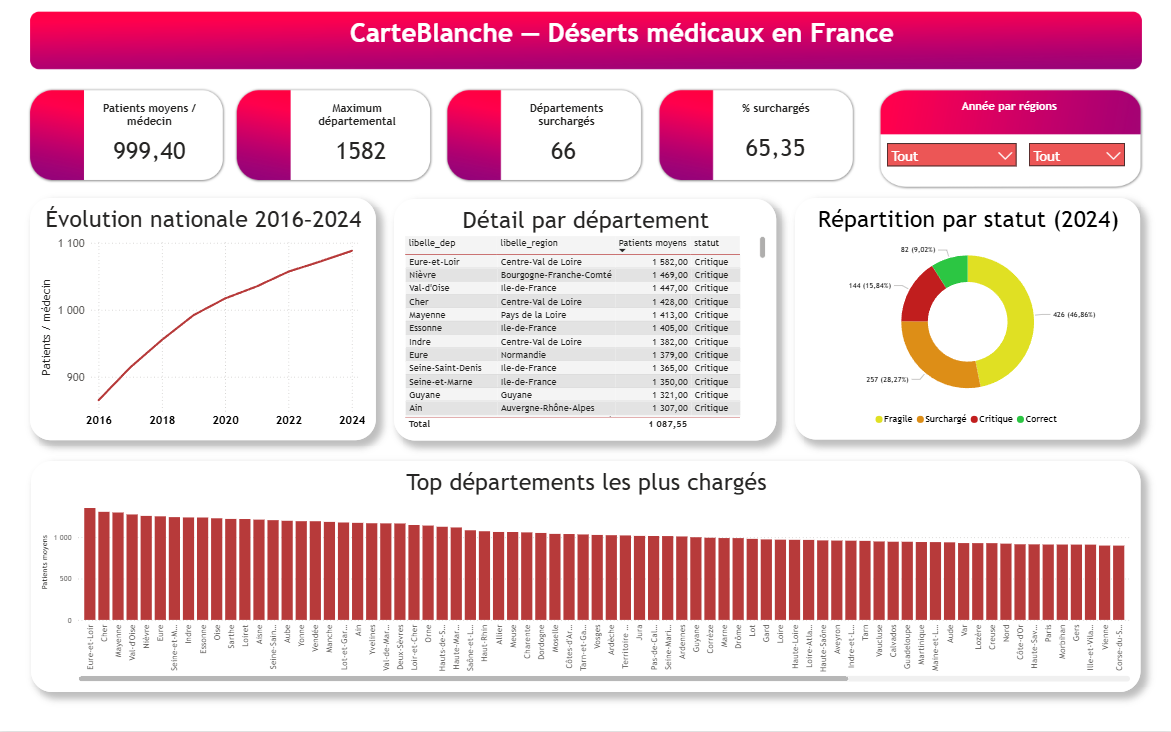

Layout of this report page (visuals, bound fields, positions):
{"tool":"powerbi","page":{"name":"Page 2","canvas":[1680,1050],"ordinal":0},"visuals":[{"type":"textbox","box":[483.3,25,816.7,75],"z":0},{"type":"image","box":[2636.7,100,623.3,150],"z":1000},{"type":"slicer","fields":{"Values":["Sheet1.Patient_ID"]},"box":[2400,373.3,793.3,420],"z":2000},{"type":"card","fields":{"Values":["public fact_patientele.Max patients"]},"box":[437.6,198.8,162.9,42.8],"z":3000},{"type":"card","fields":{"Values":["public fact_patientele.Patients moyens"]},"box":[129.8,198.8,172.6,42.8],"z":4000},{"type":"card","fields":{"Values":["public fact_patientele.Nb dep surcharges"]},"box":[724.3,198.6,167.1,42.9],"z":5000},{"type":"textbox","box":[130,145.5,172.7,57.3],"z":6000},{"type":"textbox","box":[437.1,145.7,151.4,58.6],"z":7000},{"type":"textbox","box":[732.9,145.7,158.6,52.9],"z":8000},{"type":"textbox","box":[1035.7,145.7,151.4,37.1],"z":9000},{"type":"card","fields":{"Values":["public fact_patientele.Pct dep surcharges"]},"box":[1031.4,194.3,158.6,42.9],"z":10000},{"type":"lineChart","title":"Évolution nationale 2016–2024","fields":{"Category":["public vue_evolution_nationale.annee"],"Y":["Sum(public vue_evolution_nationale.patients_moyens)"]},"box":[46.2,288.8,493.8,346.2],"z":15000},{"type":"columnChart","title":"Top départements les plus chargés","fields":{"Category":["DIM_Departement.libelle_dep"],"Y":["public fact_patientele.Patients moyens"]},"box":[46.7,665,1585,330],"z":16000},{"type":"donutChart","title":"Répartition par statut (2024)","fields":{"Category":["public fact_patientele.statut"],"Y":["public fact_patientele.Nb lignes"]},"box":[1138.3,288.3,493.3,345],"z":17000},{"type":"tableEx","title":"Détail par département","fields":{"Values":["DIM_Departement.libelle_dep","DIM_Departement.libelle_region","public fact_patientele.Patients moyens","public fact_patientele.statut"]},"box":[565,290,546.2,345],"z":18000},{"type":"slicer","fields":{"Values":["DIM_Temps.annee"]},"box":[1463.3,200,156.7,68.3],"z":19000},{"type":"slicer","fields":{"Values":["DIM_Departement.libelle_region"]},"box":[1260,175,205,96.7],"z":20000},{"type":"textbox","box":[1286.7,143.3,315,38.3],"z":21000}]}

Visuals, with their boxes in screenshot pixels (x1, y1, x2, y2), scaled from the page's 1680x1050 canvas onto the 1171x732 screenshot:
textbox: 337,17,906,70
card - public fact_patientele.Max patients: 305,139,419,168
card - public fact_patientele.Patients moyens: 90,139,211,168
card - public fact_patientele.Nb dep surcharges: 505,138,621,168
textbox: 91,101,211,141
textbox: 305,102,410,142
textbox: 511,102,621,138
textbox: 722,102,827,127
card - public fact_patientele.Pct dep surcharges: 719,135,829,165
"Évolution nationale 2016–2024" lineChart: 32,201,376,443
"Top départements les plus chargés" columnChart: 33,464,1137,694
"Répartition par statut (2024)" donutChart: 793,201,1137,442
"Détail par département" tableEx: 394,202,775,443
slicer - DIM_Temps.annee: 1020,139,1129,187
slicer - DIM_Departement.libelle_region: 878,122,1021,189
textbox: 897,100,1116,127
